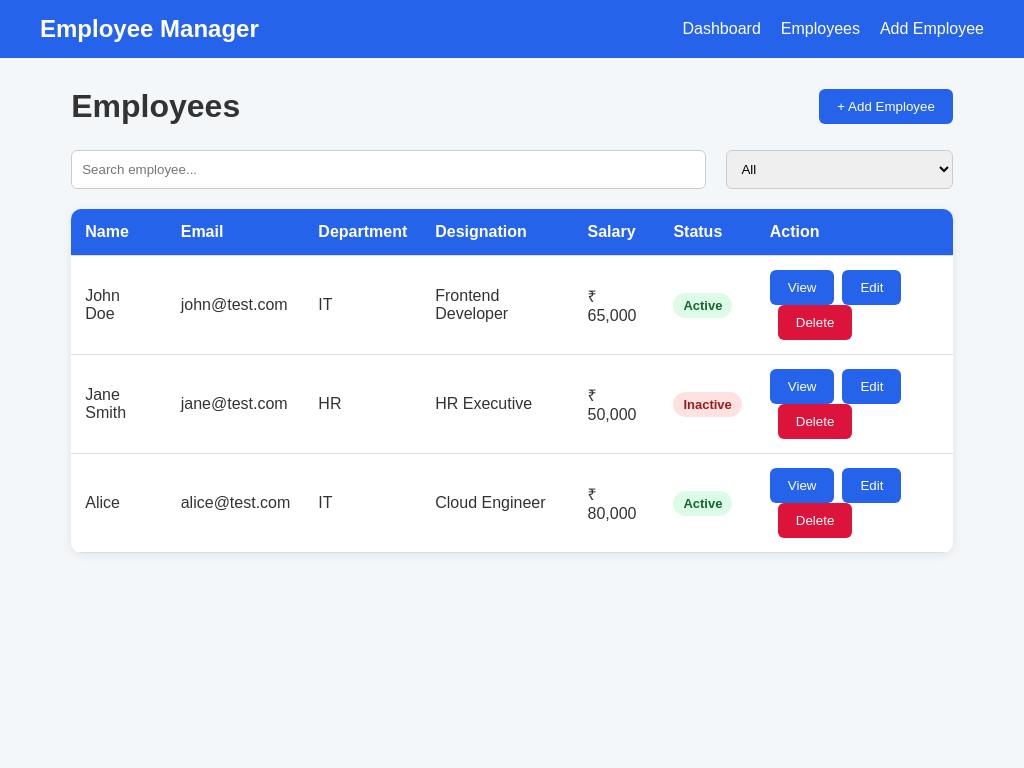
Test: Employees page › deletes an employee successfully
This screenshot has width=1024, height=768.
expect the text "John Doe" is shown: met, box [71,256,167,354]
Click the button "Delete" in the row of "john@test.com".
click(815, 322)  # box [778,305,852,340]
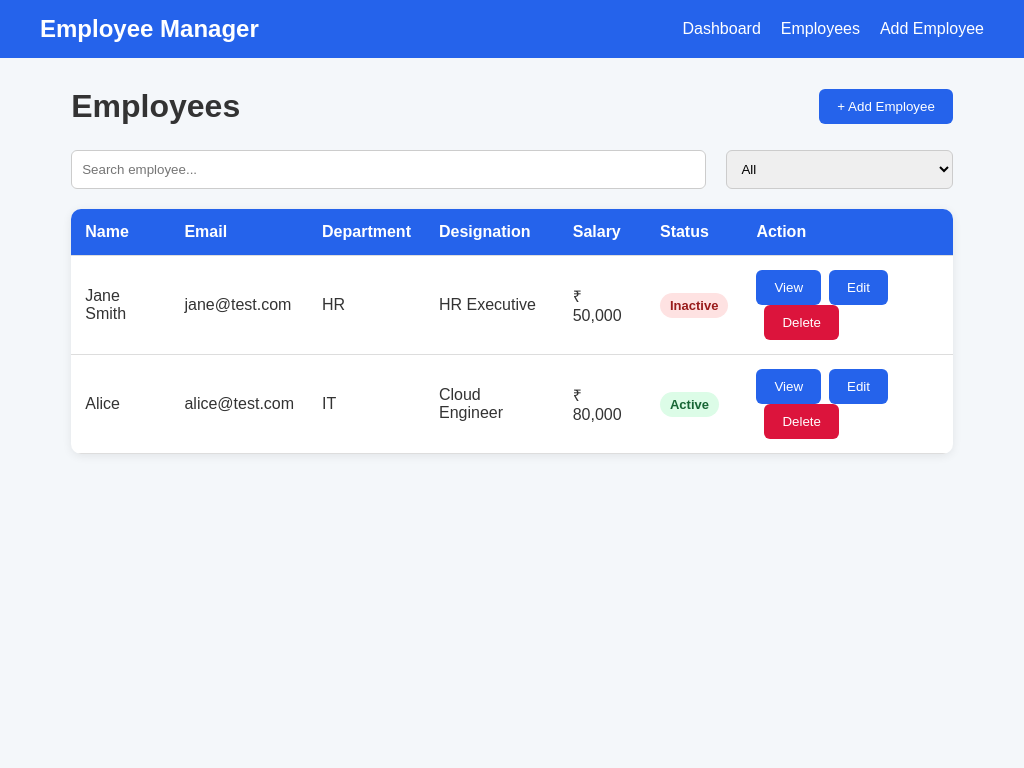
expect the text "John Doe" is gone: met
